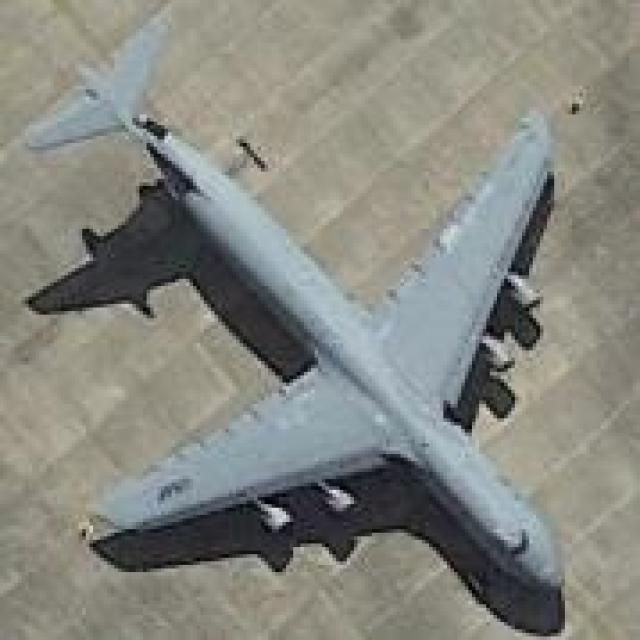C-5_TopDown: (24, 19, 609, 636)
